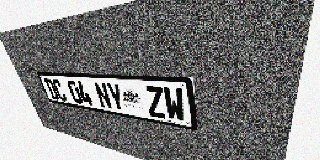0: (66, 80, 84, 105)
4: (75, 81, 94, 106)
C: (51, 79, 68, 102)
D: (44, 78, 60, 100)
N: (93, 82, 113, 110)
W: (162, 87, 186, 122)
Y: (106, 83, 126, 112)
Z: (144, 85, 167, 119)
